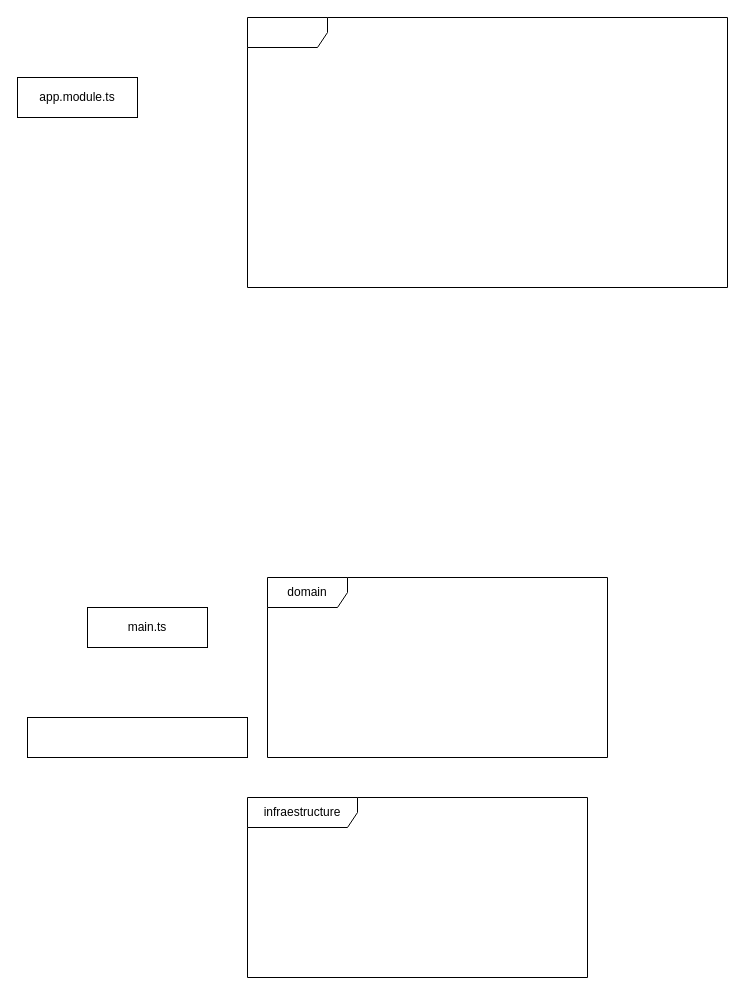
Some shapes in this 745 by 995 pixel diagram are drawn without their labels. Here are the shapes that lost their labels. From the top down, the centre of each, then its label:
At point (487, 152): "application".
At point (137, 737): "NAME_MICROSERVICE.module.ts".
